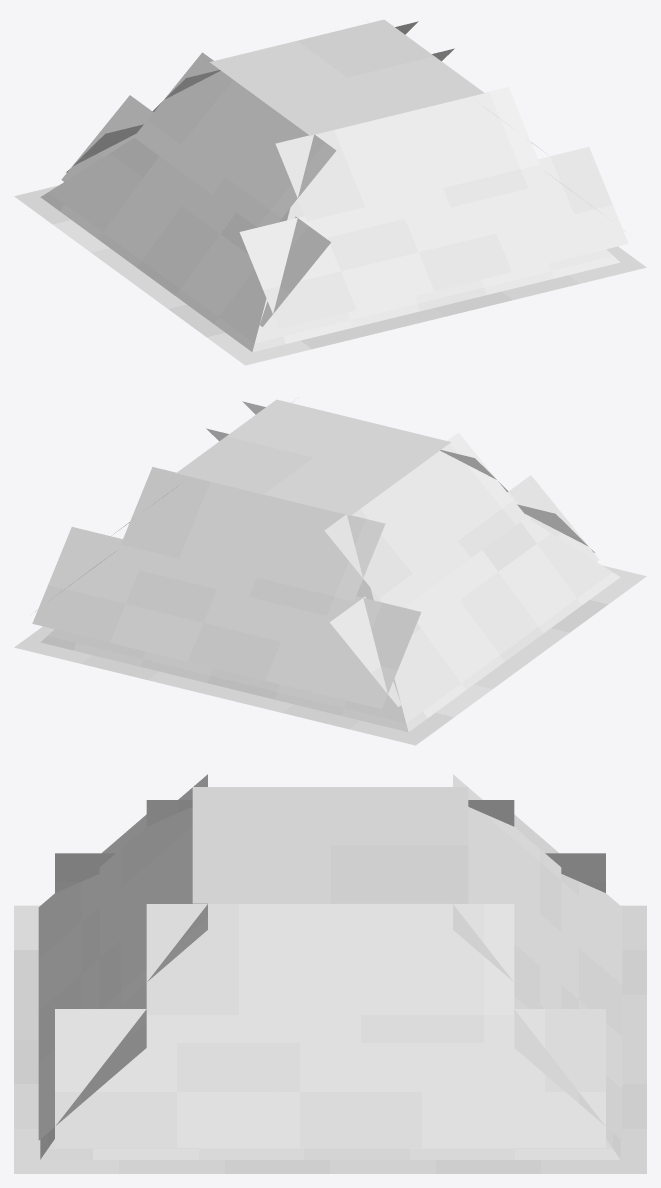
The model's file is dust_pile_tiny.obj.
3 views of the same model, one above another, from view 1: azimuth 30°, elevation 25°; view 2: azimuth 150°, elevation 25°; view 3: azimuth 270°, elevation 25° (orthographic). The views are drawn at different scales.
Visible parts, largest first — view 1: dust_pile_tiny; view 2: dust_pile_tiny; view 3: dust_pile_tiny.
Boxes of the visible parts, bbox=[...] form: dust_pile_tiny: bbox=[14, 19, 646, 365]; dust_pile_tiny: bbox=[14, 399, 646, 745]; dust_pile_tiny: bbox=[14, 774, 646, 1173].
Size of the model in its own units: 0.3771 by 0.1344 by 0.375.
